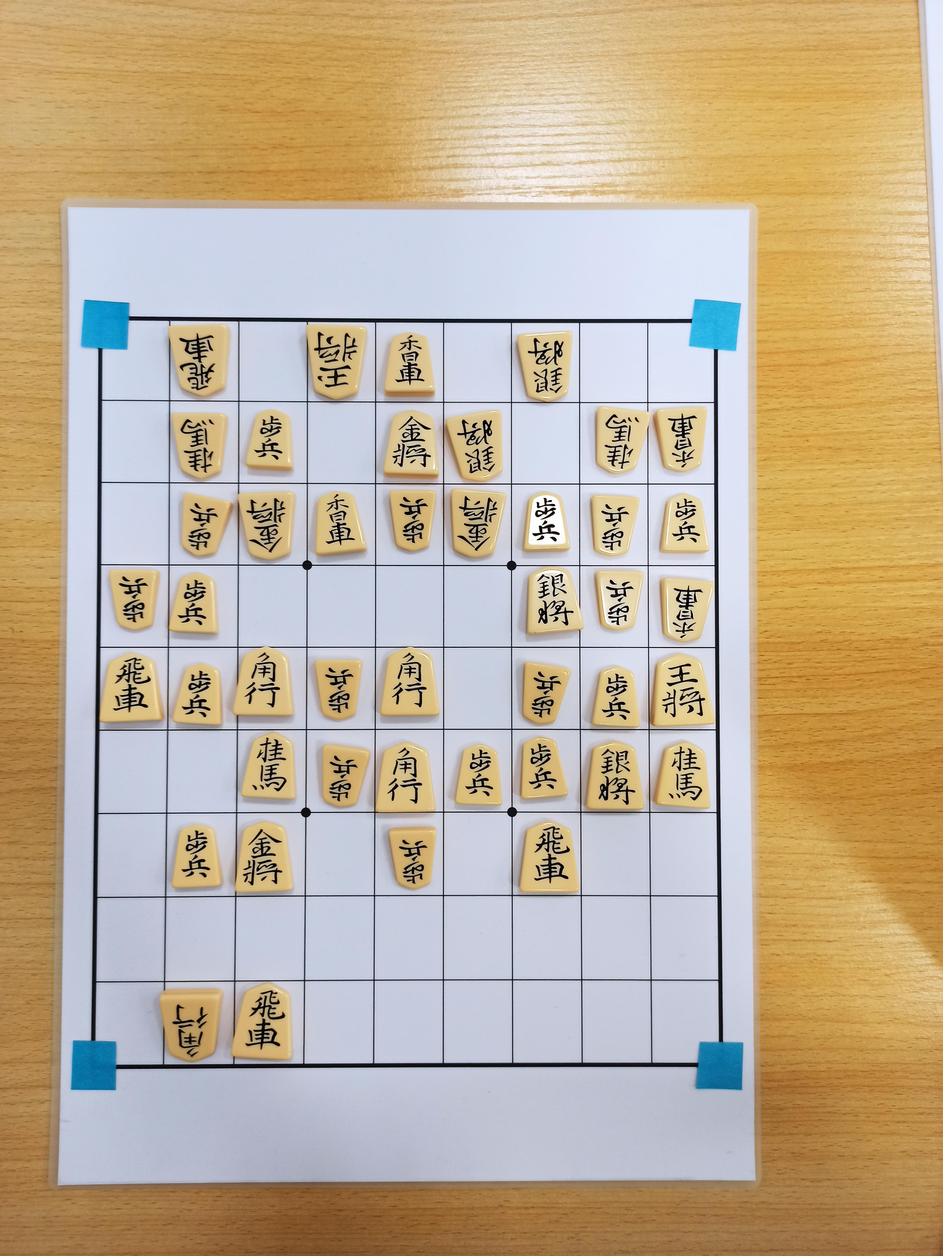board: (93, 319, 721, 1066)
